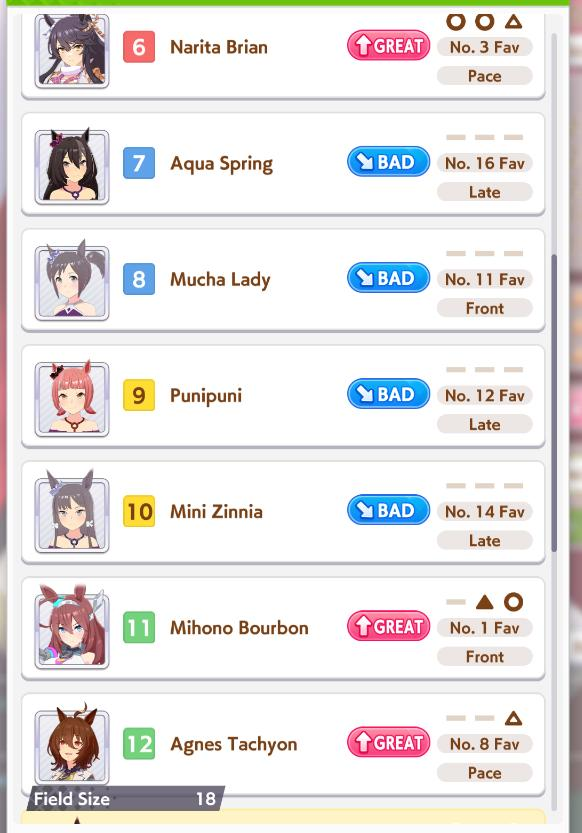Great: (343, 606, 433, 645), (344, 725, 431, 763), (349, 27, 431, 62)
bad: (345, 144, 433, 182), (345, 375, 429, 414), (345, 258, 430, 296), (345, 492, 432, 527)
